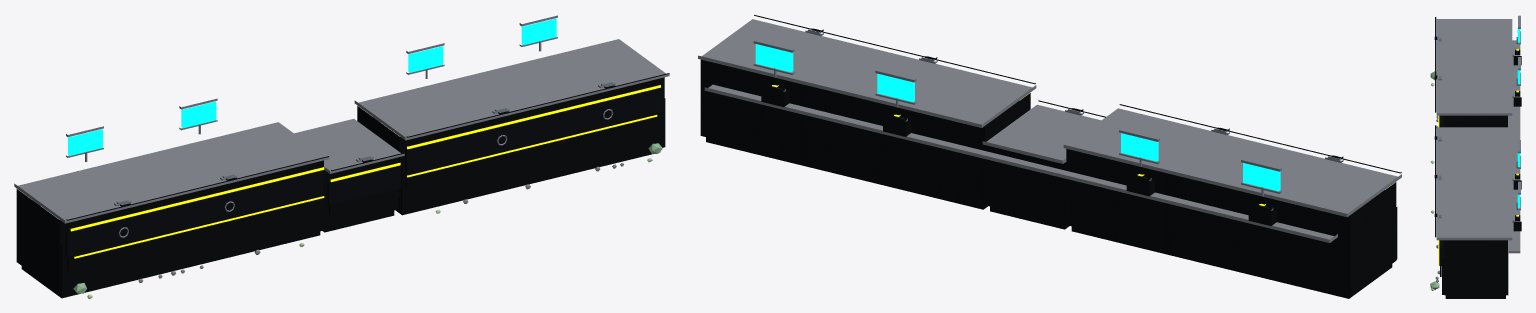
The model's file is tt_foyer_desk.glb.
3 views of the same model, side by side, from view 1: azimuth 30°, elevation 25°; view 2: azimuth 150°, elevation 25°; view 3: azimuth 270°, elevation 25° (orthographic). The views are drawn at different scales.
Parts seen in each view (by area): view 1: Fascia_Slate, Desk_Top_L, Desk_Top_R, Desk_Body_L, Desk_Body_R, Fascia_Gunmetal, River_LED, Desk_Top_A, Staff_Screens, Desk_Body_A, Counter_Edge, Screen_Bezel; view 2: Desk_Body_L, Desk_Body_R, Desk_Top_R, Desk_Top_L, Staff_Ledge, Desk_Body_A, Desk_Top_A, Staff_Screens, Ticket_Printer, Counter_Edge, Screen_Bezel; view 3: Desk_Top_R, Desk_Top_L, Desk_Body_R, Staff_Ledge, Desk_Top_A, Desk_Body_L, Ticket_Printer, Counter_Edge, Screen_Bezel, Staff_Screens, RFID_Reader, Fascia_Slate (+1 smaller).
Part boxes in pixels (box(x1,y1,x2,y2)): Fascia_Slate: box(65, 87, 663, 257); Desk_Top_L: box(14, 122, 329, 223); Desk_Top_R: box(354, 39, 669, 140); Desk_Body_L: box(16, 160, 324, 298); Desk_Body_R: box(357, 77, 665, 215); Fascia_Gunmetal: box(67, 112, 661, 272); River_LED: box(70, 85, 660, 258); Desk_Top_A: box(294, 119, 404, 173); Staff_Screens: box(68, 18, 556, 155); Desk_Body_A: box(322, 157, 398, 232); Counter_Edge: box(66, 73, 669, 220); Screen_Bezel: box(66, 15, 557, 157); Desk_Body_L: box(1066, 149, 1397, 298); Desk_Body_R: box(700, 59, 1030, 209); Desk_Top_R: box(698, 19, 1036, 127); Desk_Top_L: box(1063, 108, 1401, 217); Staff_Ledge: box(704, 84, 1337, 242); Desk_Body_A: box(985, 145, 1069, 229); Desk_Top_A: box(982, 104, 1100, 163); Staff_Screens: box(755, 44, 1280, 191); Ticket_Printer: box(761, 86, 1276, 225); Counter_Edge: box(754, 15, 1401, 173); Screen_Bezel: box(753, 41, 1281, 193); Desk_Top_R: box(1436, 143, 1512, 240); Desk_Top_L: box(1436, 19, 1512, 115); Desk_Body_R: box(1442, 240, 1508, 298); Staff_Ledge: box(1508, 40, 1520, 253); Desk_Top_A: box(1436, 127, 1512, 143); Desk_Body_L: box(1442, 115, 1508, 127); Ticket_Printer: box(1513, 49, 1521, 231); Counter_Edge: box(1435, 17, 1436, 237); Screen_Bezel: box(1518, 15, 1520, 210); Staff_Screens: box(1517, 28, 1520, 208); RFID_Reader: box(1438, 35, 1441, 218); Fascia_Slate: box(1439, 115, 1441, 265).
Size of what is drawn, in the model's own units: 8 by 1.45 by 1.39.
8 materials, 3 textured.
